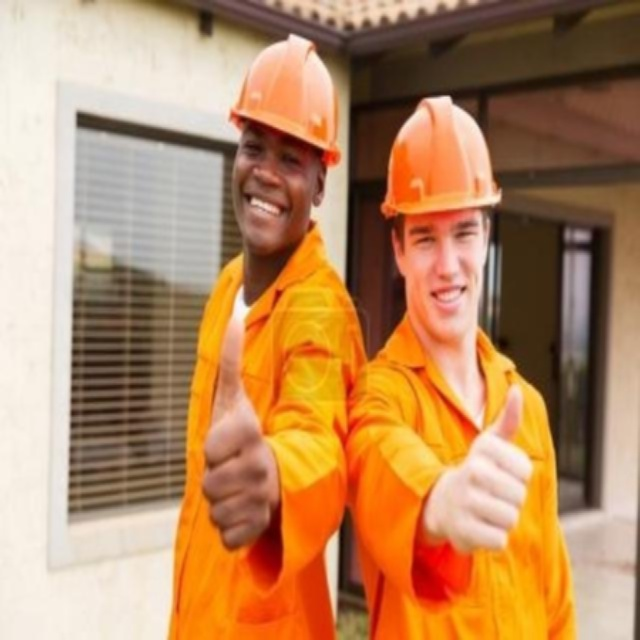Sin_Casco_Mascarrilla: (381, 94, 503, 329), (226, 30, 343, 241)
